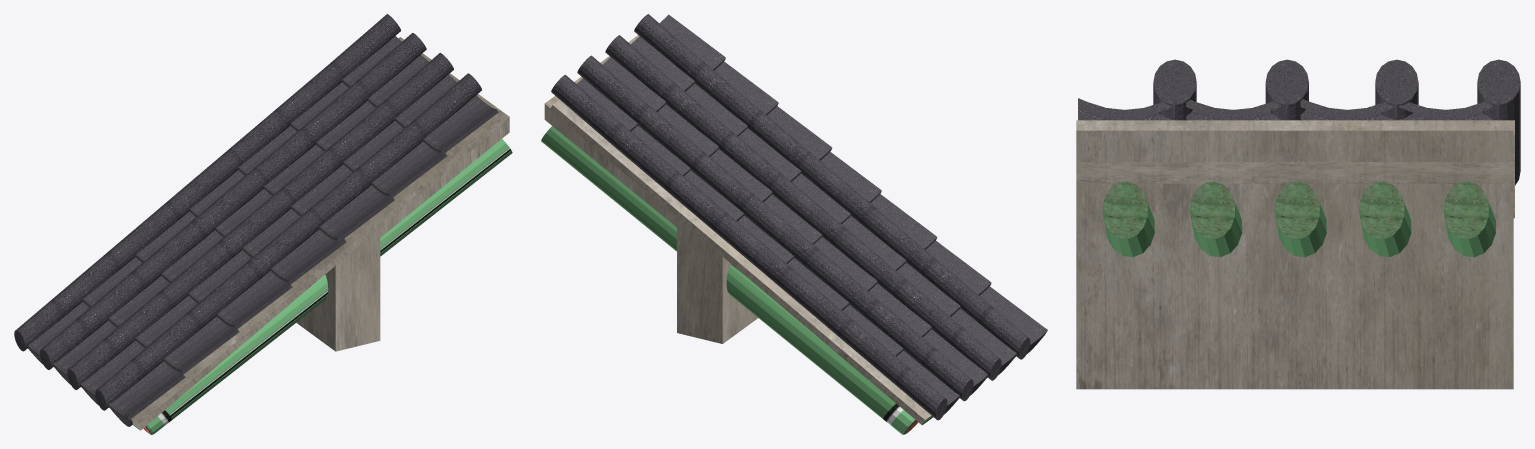
File: SM_Roof_32.fbx
3 renders of one model, left to right at view 1: azimuth 30°, elevation 25°; view 2: azimuth 150°, elevation 25°; view 3: azimuth 270°, elevation 25°, orthographic. The views are drawn at different scales.
Visible parts, largest first — view 1: SM_Roof_32; view 2: SM_Roof_32; view 3: SM_Roof_32.
Boxes of the visible parts, x1,y1,x2,y2 form: SM_Roof_32: (14, 14, 512, 434); SM_Roof_32: (541, 14, 1047, 434); SM_Roof_32: (1076, 59, 1520, 389).
Bounding box in the file's own units: 314 × 152 × 205.
Materials: 5 (5 with a texture image).
